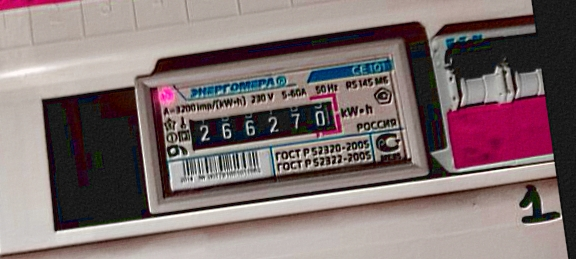0: (313, 107, 326, 129)
2: (197, 121, 213, 144), (266, 114, 281, 135)
6: (243, 117, 258, 138), (220, 120, 234, 142)
7: (289, 111, 304, 131)
screen: (174, 85, 354, 165)
